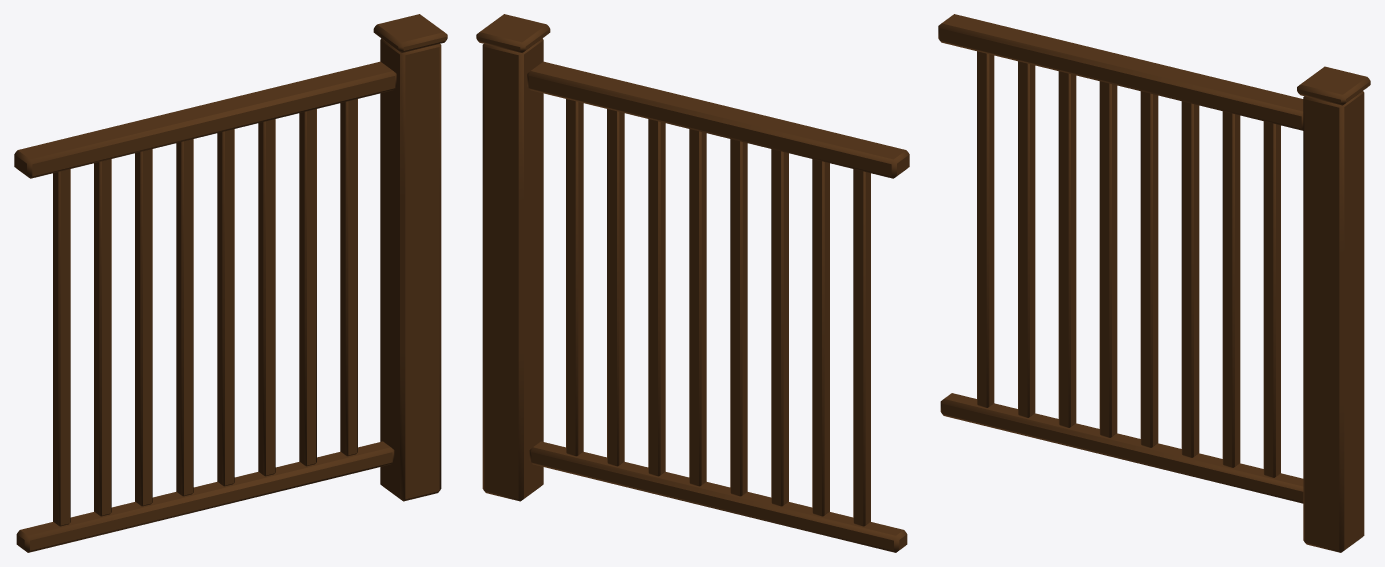
The model's file is gelaender_1m_pfosten.glb.
The picture shows the model from 3 angles, left to right: view 1: azimuth 30°, elevation 25°; view 2: azimuth 150°, elevation 25°; view 3: azimuth 330°, elevation 25°; orthographic projection.
Visible parts, largest first — view 1: gelaender_1m_pfosten; view 2: gelaender_1m_pfosten; view 3: gelaender_1m_pfosten.
Part boxes in pixels (x1=…): gelaender_1m_pfosten: x1=14, y1=14, x2=447, y2=552; gelaender_1m_pfosten: x1=476, y1=14, x2=909, y2=552; gelaender_1m_pfosten: x1=938, y1=14, x2=1370, y2=552.
Bounding box in the file's own units: 1.01 × 1.08 × 0.12.
